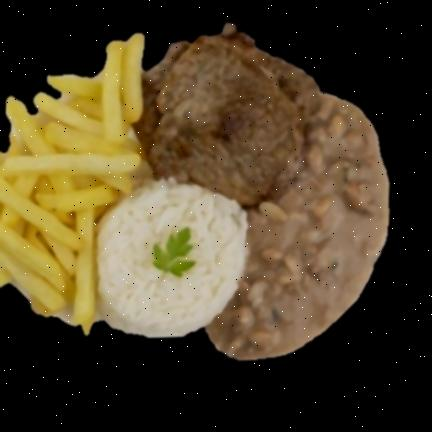beans: (203, 97, 388, 360)
meat: (131, 33, 323, 210)
potato: (0, 33, 156, 334)
rice: (95, 176, 248, 337)
